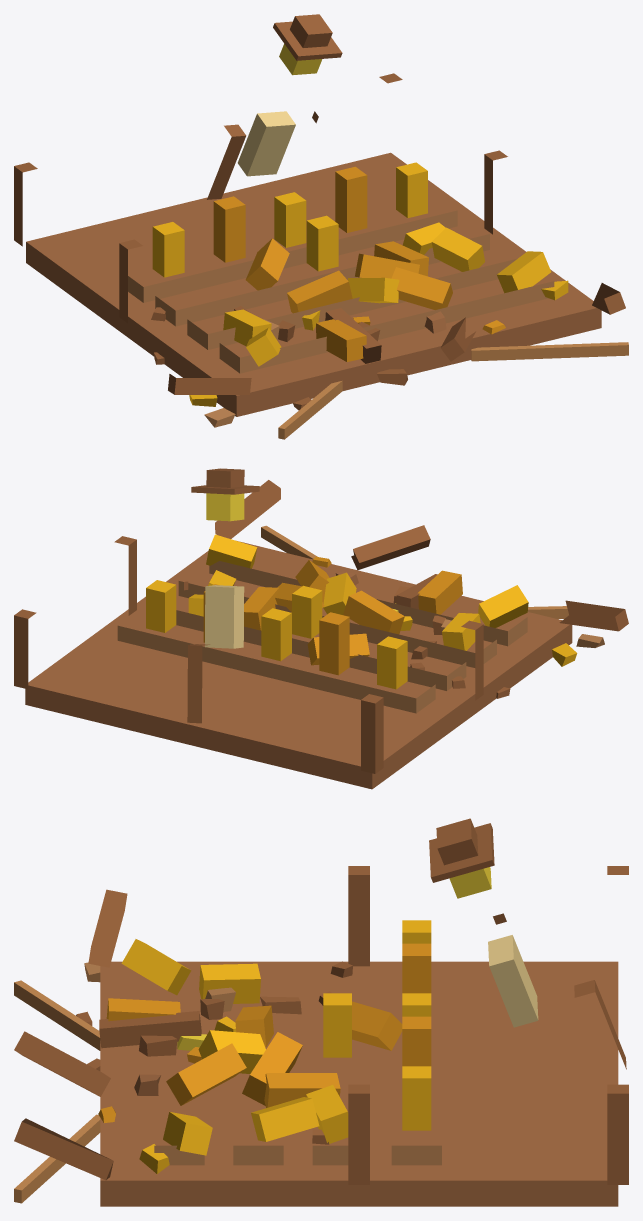
Rendered from field_t2_v1_dmg1.glb.
The picture shows the model from 3 angles, top to bottom: view 1: azimuth 30°, elevation 25°; view 2: azimuth 150°, elevation 25°; view 3: azimuth 270°, elevation 25°; orthographic projection. The views are drawn at different scales.
Visible parts, largest first — view 1: field_t2_v1_dmg1; view 2: field_t2_v1_dmg1; view 3: field_t2_v1_dmg1.
Part boxes in pixels (<box>): field_t2_v1_dmg1: <box>14,14,628,439</box>; field_t2_v1_dmg1: <box>14,468,628,789</box>; field_t2_v1_dmg1: <box>14,818,628,1206</box>.
Size of the model in its own units: 0.857 by 0.4521 by 0.855.
1 material, 1 textured.
